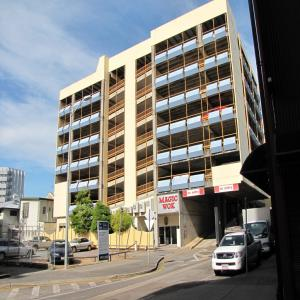Vehicle-registration-plate: (223, 265, 230, 270)
